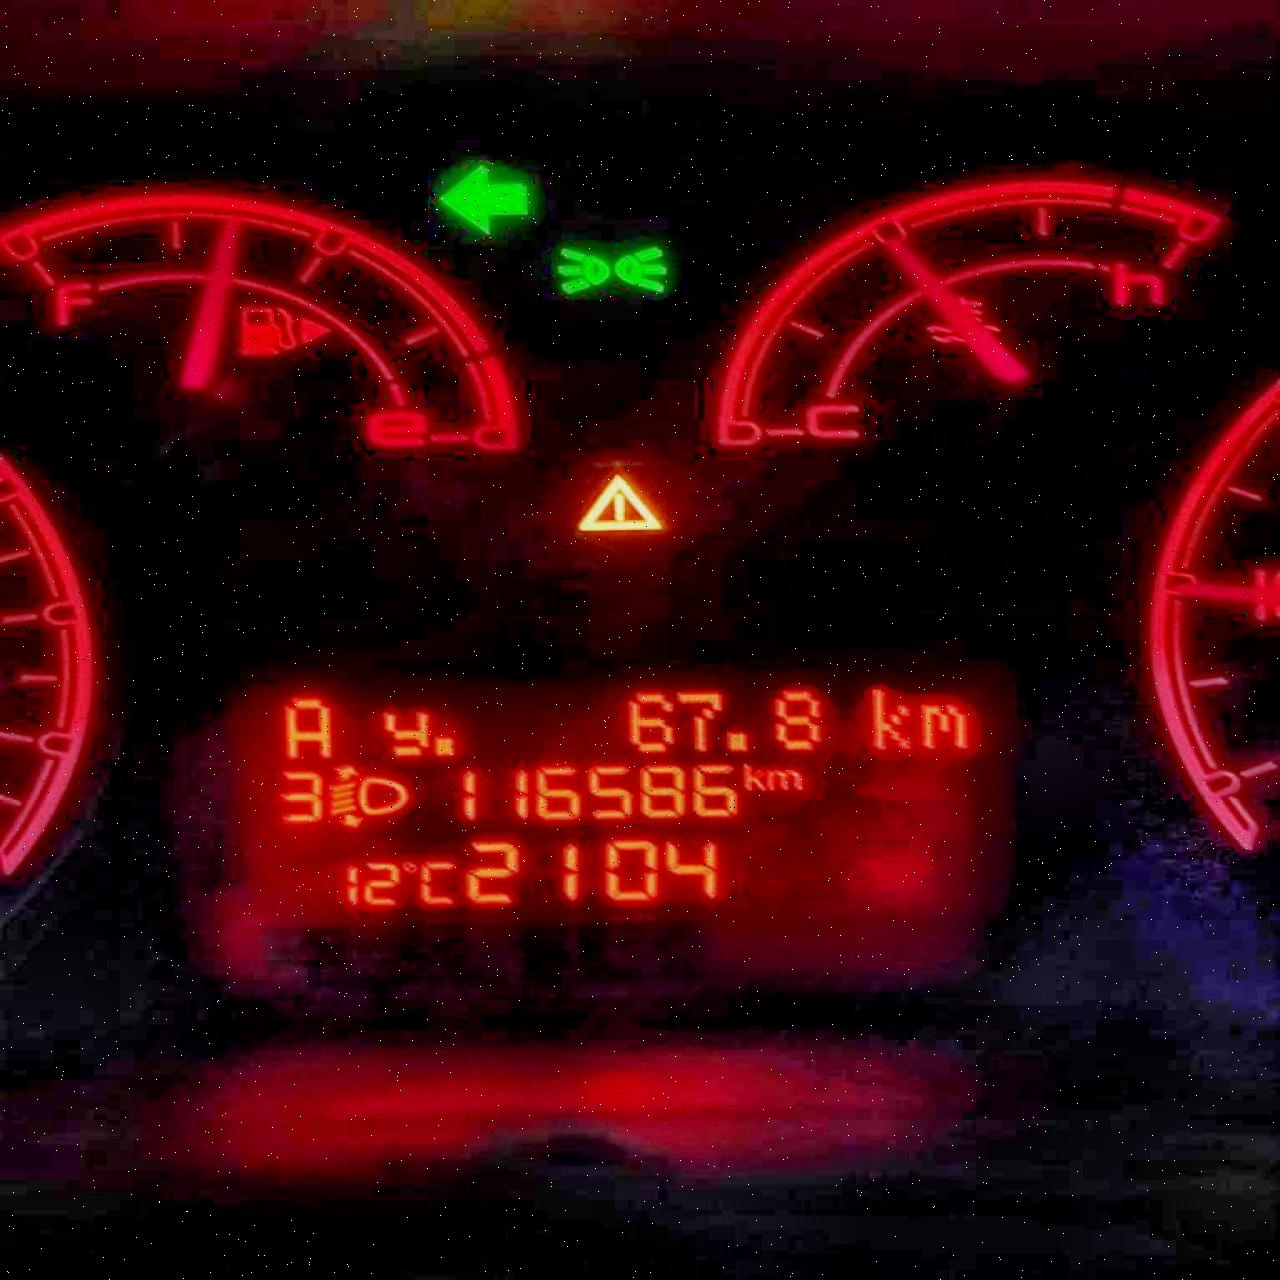-: (722, 729, 748, 753), (433, 731, 456, 757)
0: (598, 836, 660, 905)
1: (545, 837, 588, 903), (444, 765, 490, 824), (493, 764, 530, 821), (331, 856, 361, 906)
2: (459, 837, 524, 907), (361, 858, 399, 907)
3: (274, 764, 321, 828)
4: (660, 837, 726, 901)
5: (584, 760, 633, 819)
6: (621, 686, 675, 755), (531, 757, 581, 823), (688, 760, 738, 821)
7: (675, 688, 720, 754)
8: (765, 682, 829, 753), (633, 760, 687, 821)
X: (271, 692, 334, 760), (862, 682, 914, 751), (373, 706, 429, 760), (914, 697, 969, 751), (417, 858, 456, 906), (765, 763, 801, 792), (741, 757, 764, 794)
odometer: (220, 668, 989, 942)
